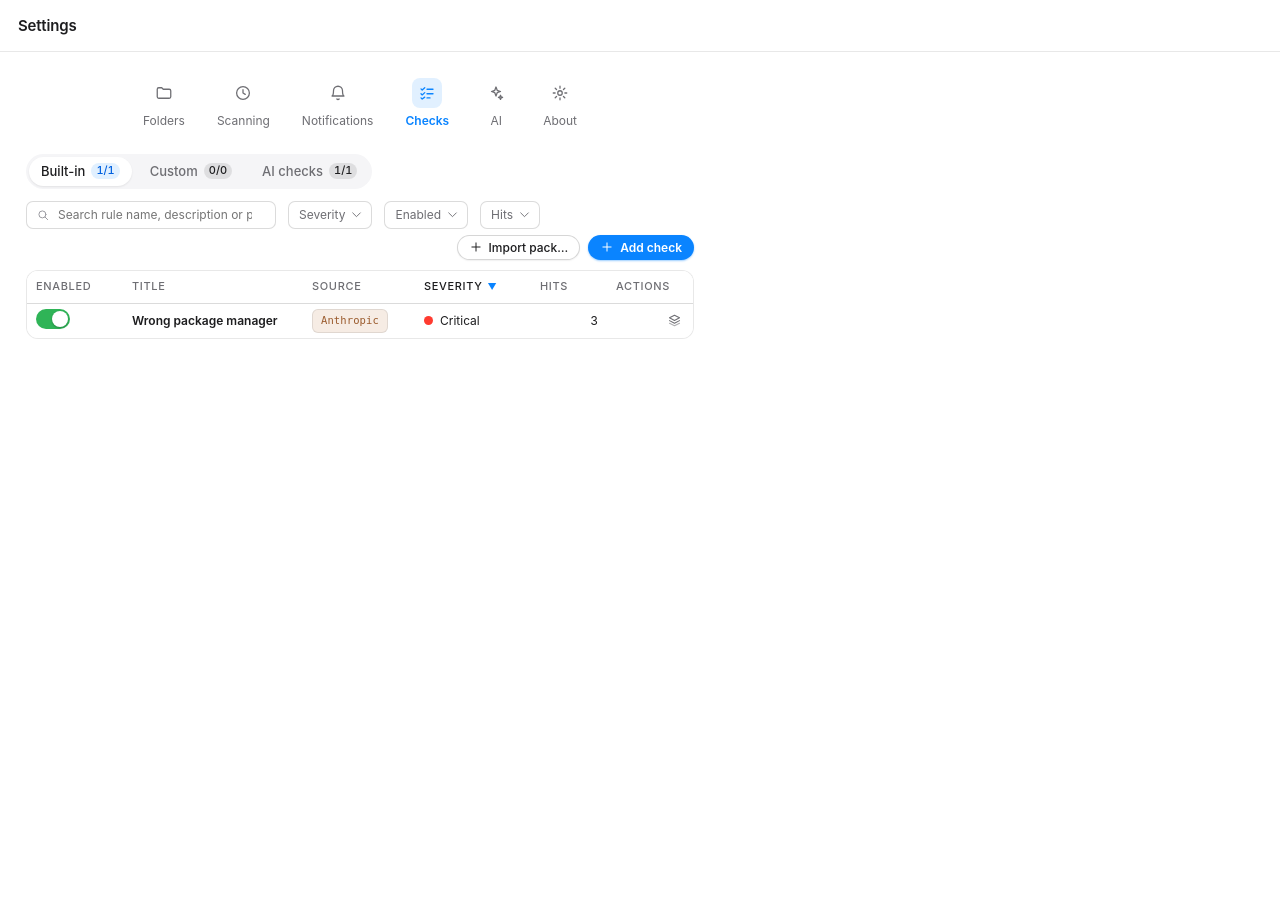
copy sweep (spec §3.3, §13a) — loaded screens › Settings → Checks with a check's sheet open
Click the text "Wrong package manager": (205, 321) [132, 312, 278, 330]
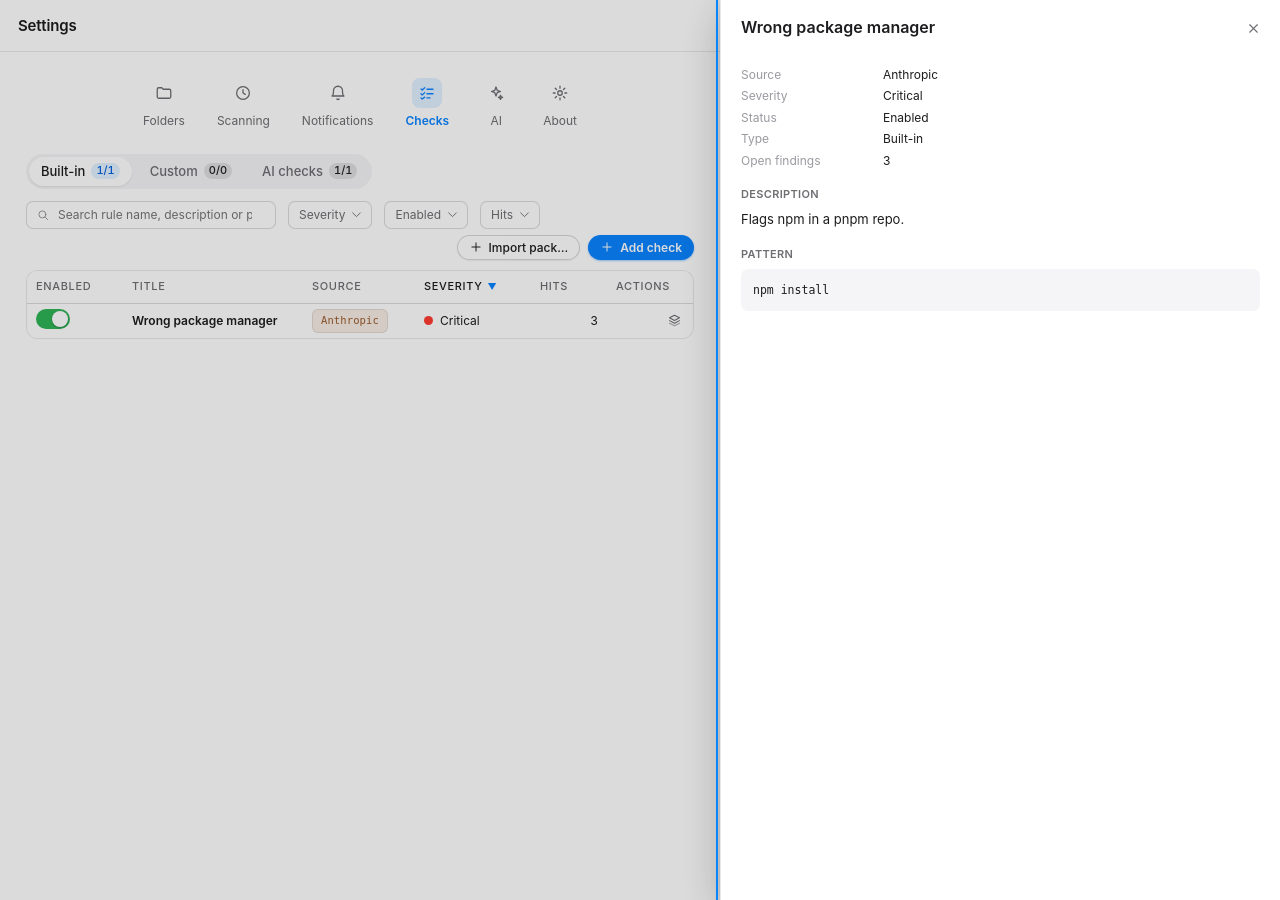
Expected: the dialog is shown, [720, 0, 1279, 899]
